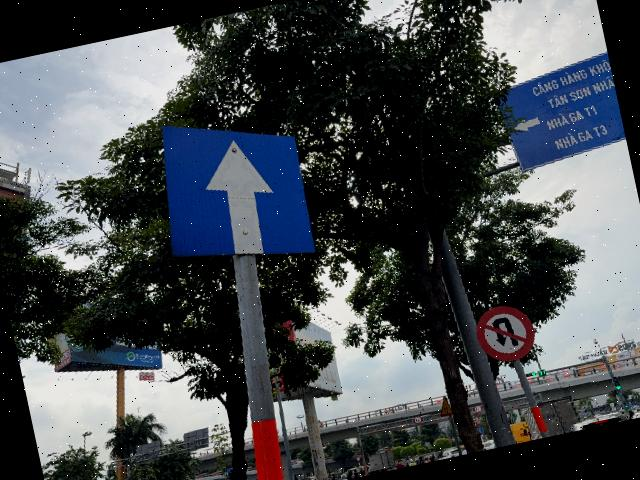cam-quay-dau-xe: (471, 300, 538, 367)
duong-mot-chieu: (144, 99, 319, 283)
